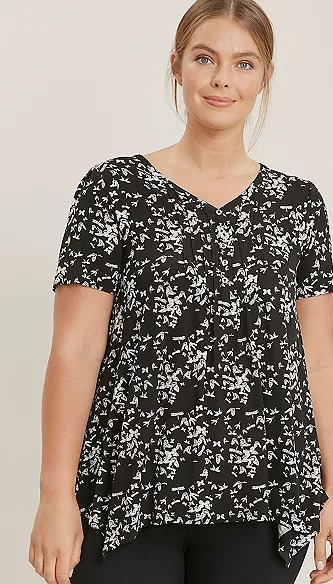C_short blouse: (55, 155, 333, 565)
